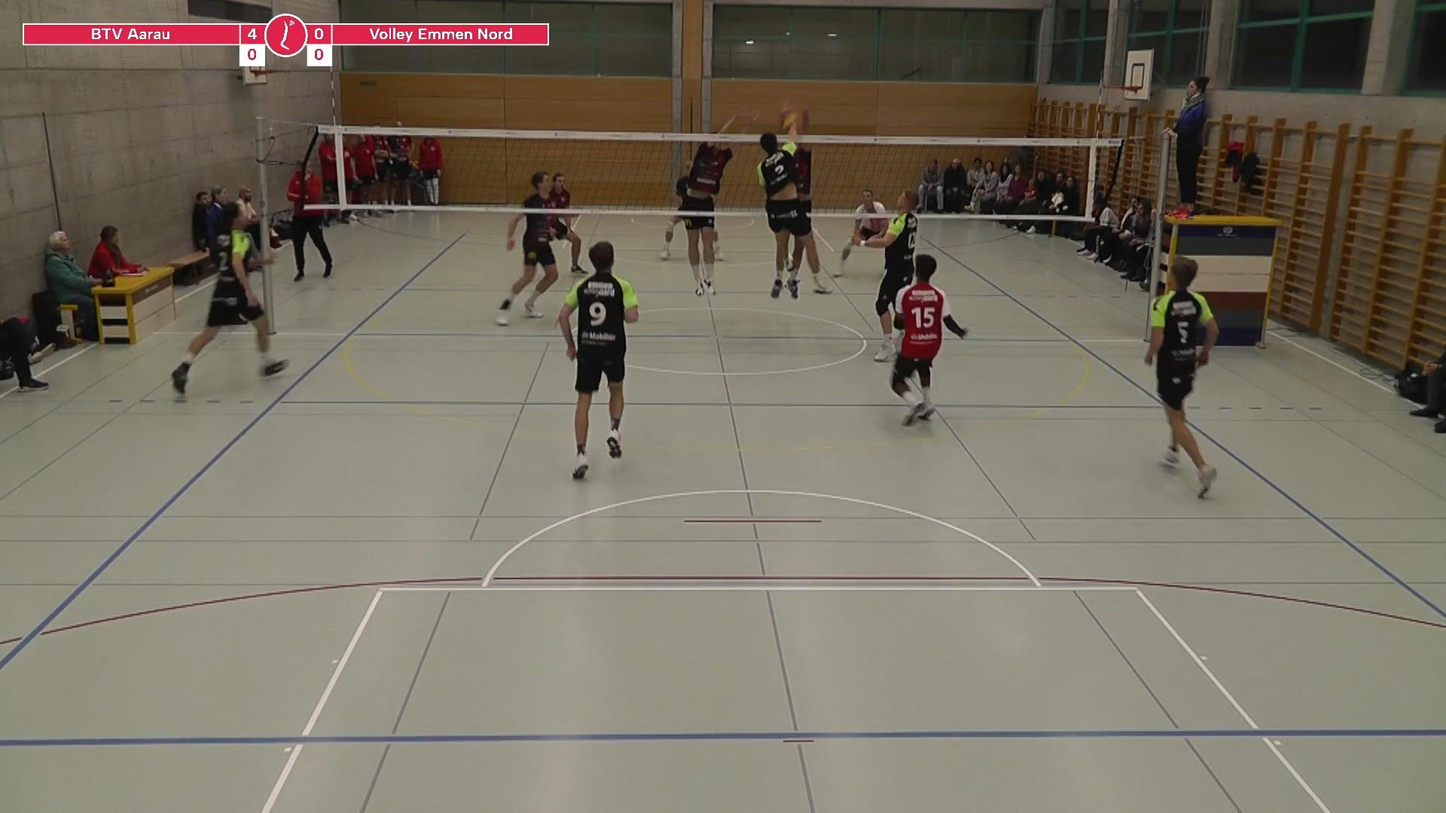attacco: (754, 98, 833, 301)
muro: (675, 97, 746, 298)
